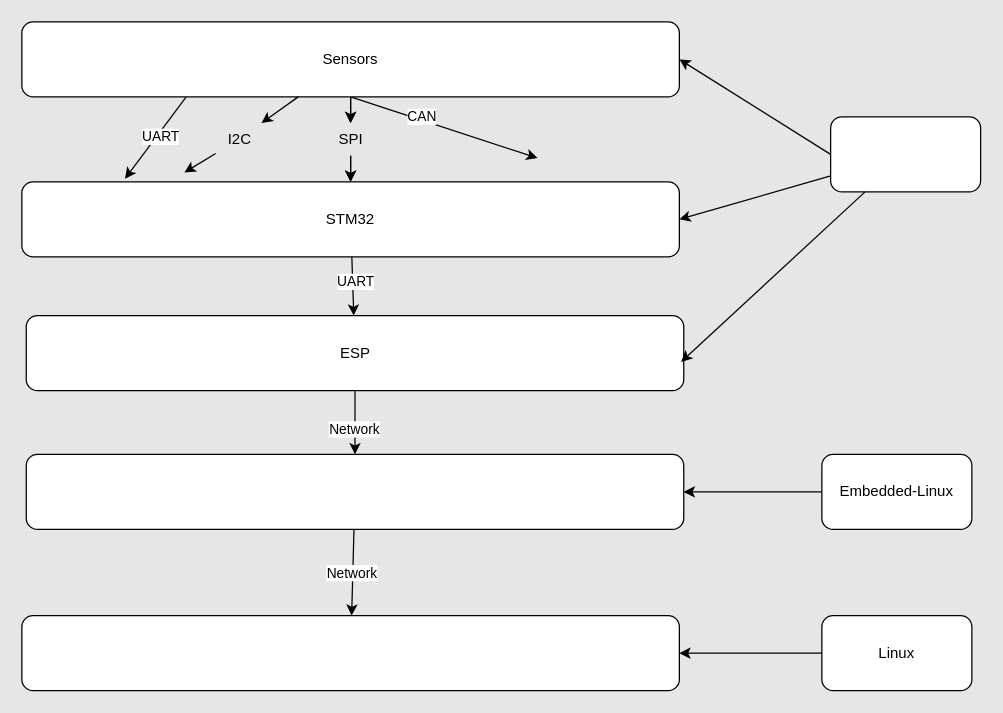
Image size: 1003x713. Some labels were removed from this diagram. The shapes that lost their labels are listed below. From the top down, each one's centre as x and y in pixels, then its label:
At pixel 905 154: "Bare-Metal Drivers".
At pixel 354 491: "Raspberri pi".
At pixel 350 652: "Cloud".
